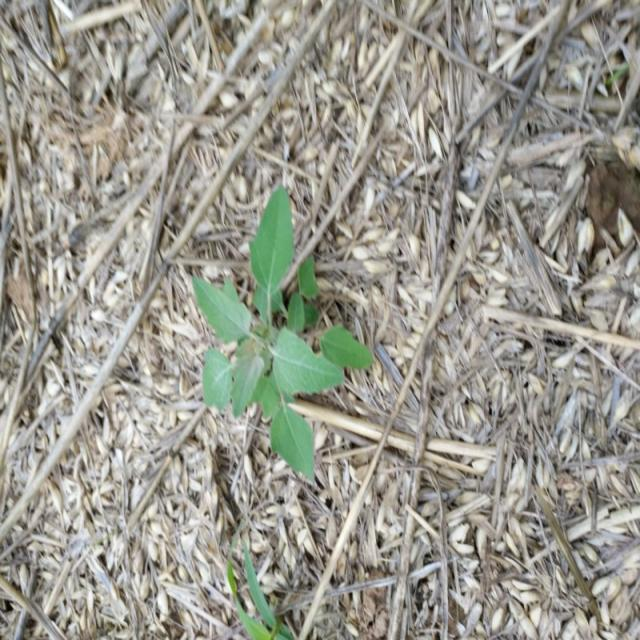goosefoots: (183, 194, 386, 478)
